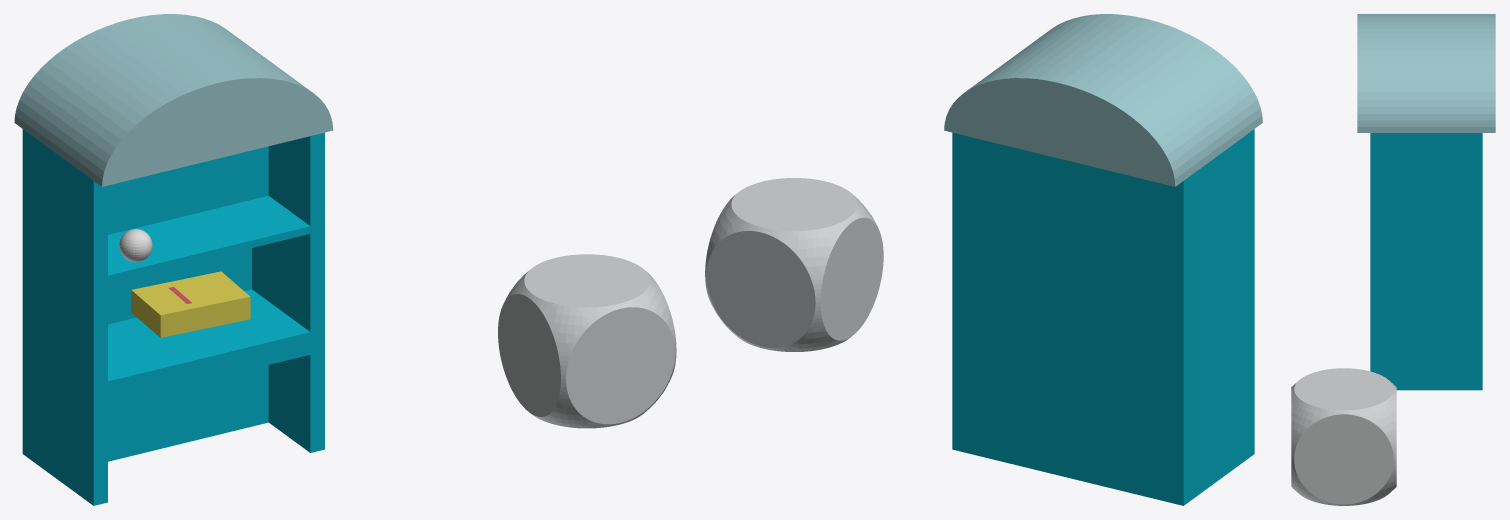
The model's file is Shelf Model.glb.
The picture shows the model from 3 angles, left to right: view 1: azimuth 30°, elevation 25°; view 2: azimuth 150°, elevation 25°; view 3: azimuth 270°, elevation 25°; orthographic projection. The views are drawn at different scales.
Visible parts, largest first — view 1: Mesh_Mesh_head_geo.001_lambert2SG.001; view 2: Mesh_Mesh_head_geo.001_lambert2SG.001; view 3: Mesh_Mesh_head_geo.001_lambert2SG.001.
Part boxes in pixels (x1,y1,x2,y2): Mesh_Mesh_head_geo.001_lambert2SG.001: [14, 14, 676, 505]; Mesh_Mesh_head_geo.001_lambert2SG.001: [705, 14, 1262, 505]; Mesh_Mesh_head_geo.001_lambert2SG.001: [1291, 14, 1495, 505].
Bounding box in the file's own units: 74 × 53 × 31.
